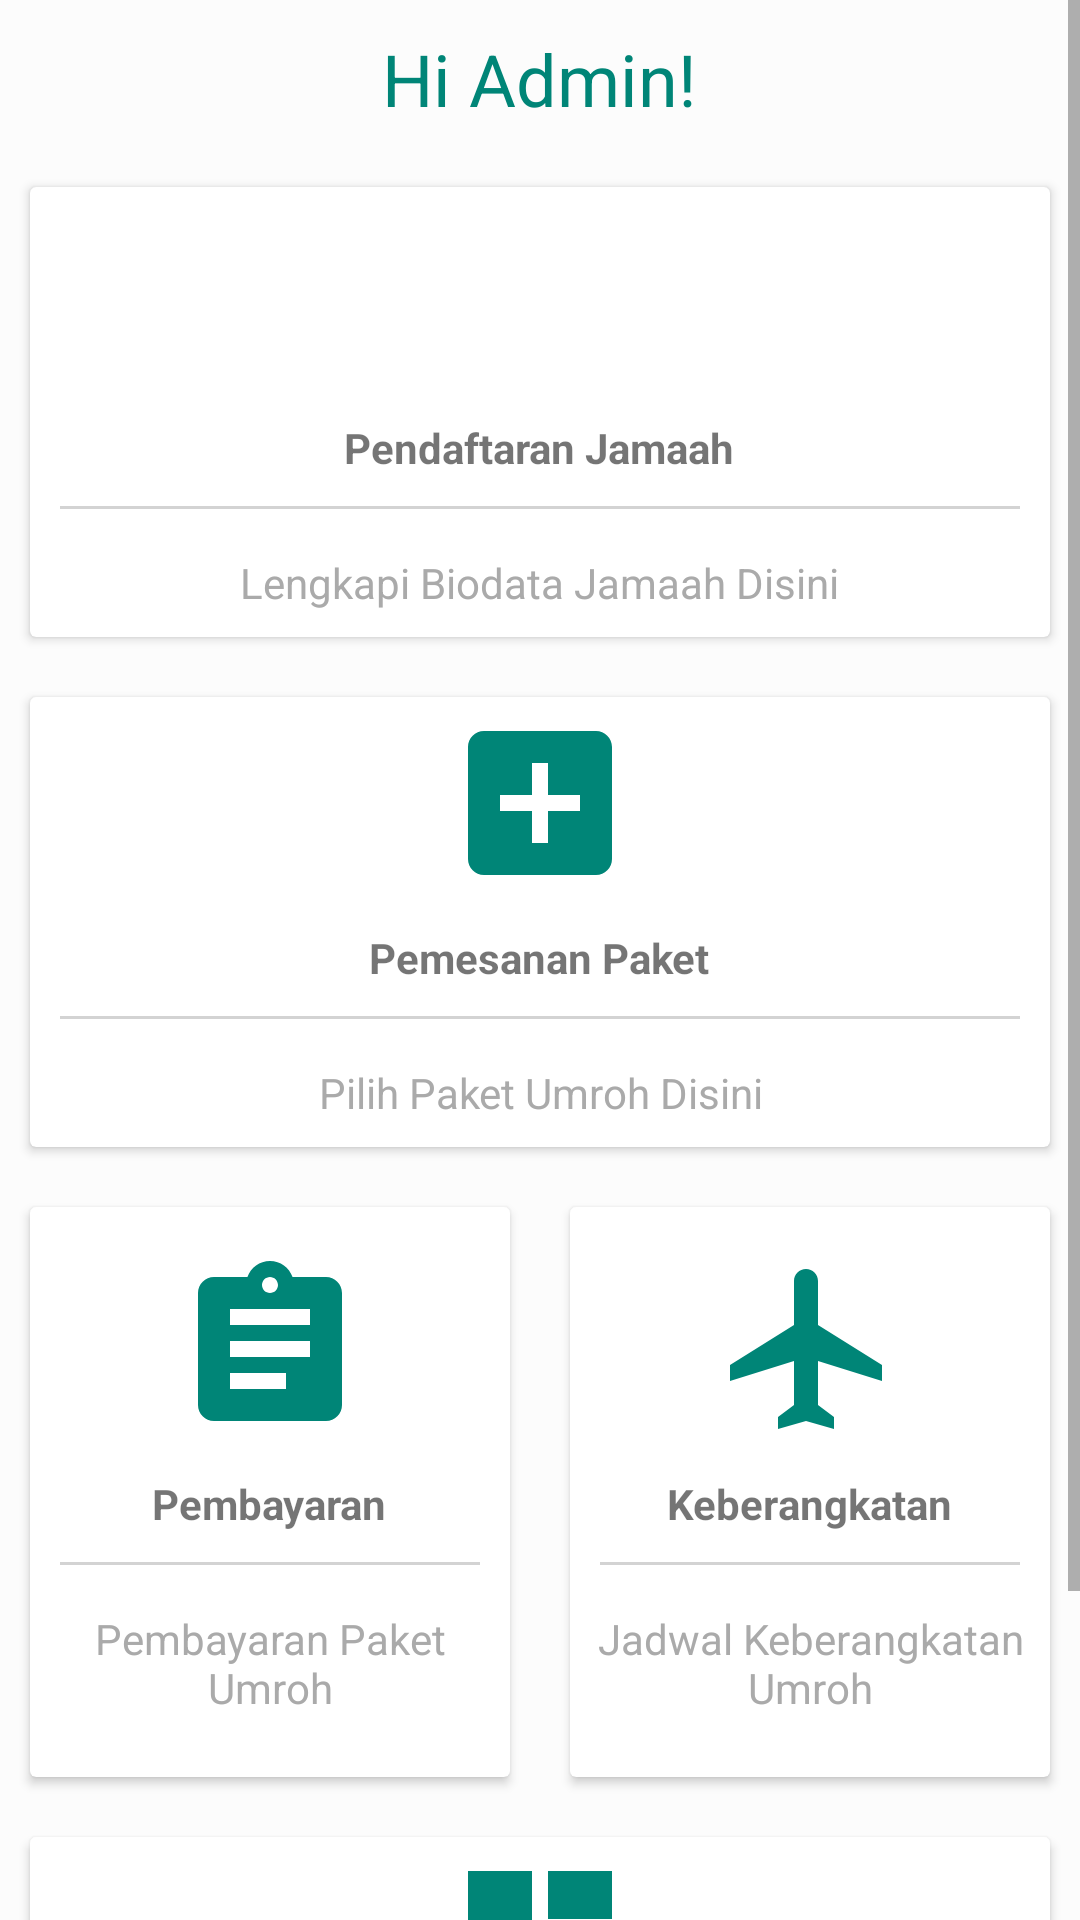

Icon bounding boxes for this 1080px×1920px phone screenshot, format (x1, y1, x2, y2):
add box: (468, 731, 612, 875)
assignment: (198, 1261, 342, 1421)
flight: (730, 1269, 882, 1429)
